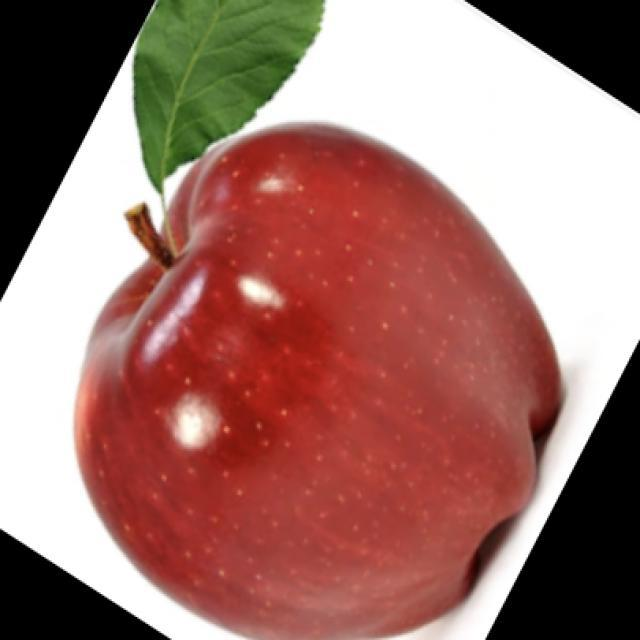Fresh Apple: (85, 135, 580, 640)
